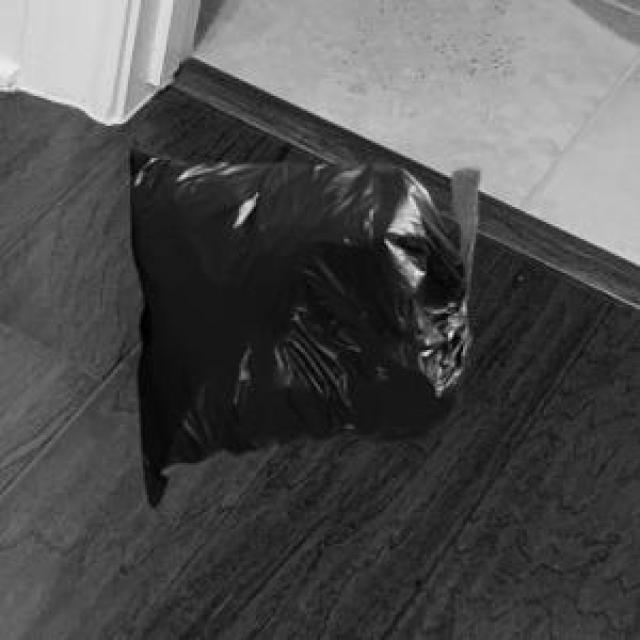miscellaneous trash: (128, 134, 475, 504)
